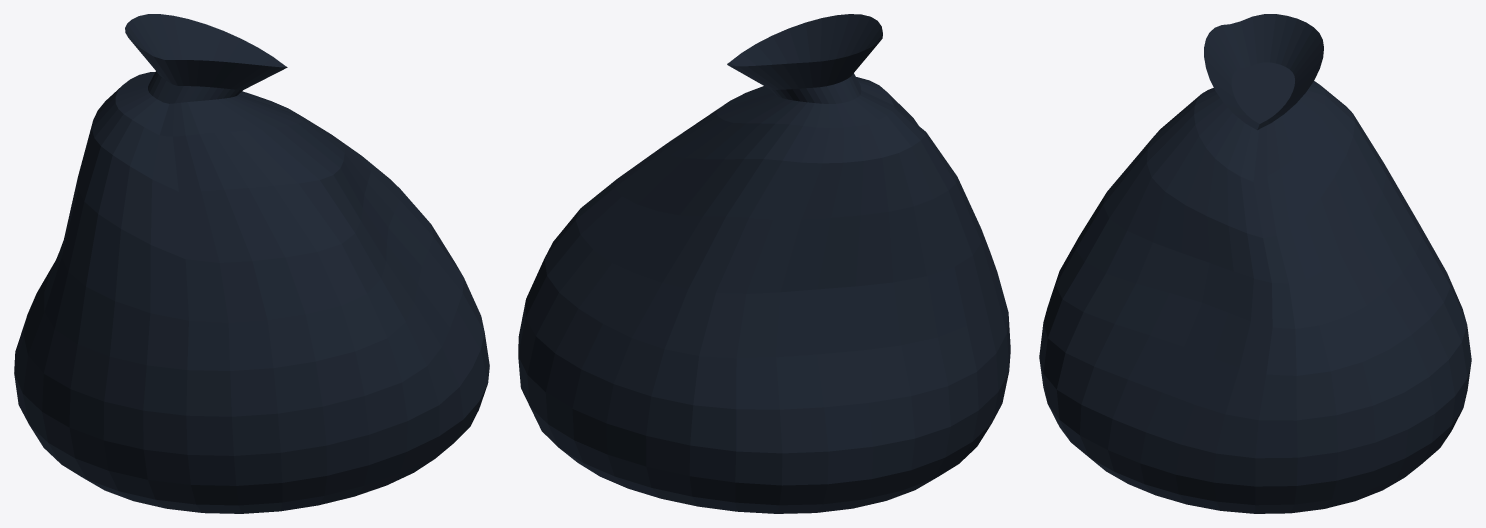
The model's file is Trash.fbx.
3 views of the same model, side by side, from view 1: azimuth 30°, elevation 25°; view 2: azimuth 150°, elevation 25°; view 3: azimuth 270°, elevation 25° (orthographic). The views are drawn at different scales.
Visible parts, largest first — view 1: Сфера; view 2: Сфера; view 3: Сфера.
Boxes of the visible parts, x1=… form: Сфера: x1=14, y1=14, x2=489, y2=513; Сфера: x1=518, y1=14, x2=1010, y2=513; Сфера: x1=1039, y1=14, x2=1471, y2=513.
Bounding box in the file's own units: 65.9 × 63.87 × 64.57.
